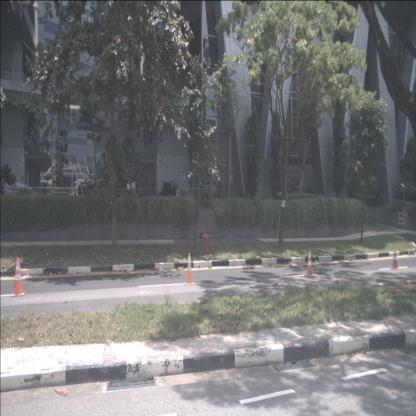cone: (10, 257, 25, 297), (184, 252, 195, 286), (305, 248, 315, 277), (391, 247, 399, 270)
